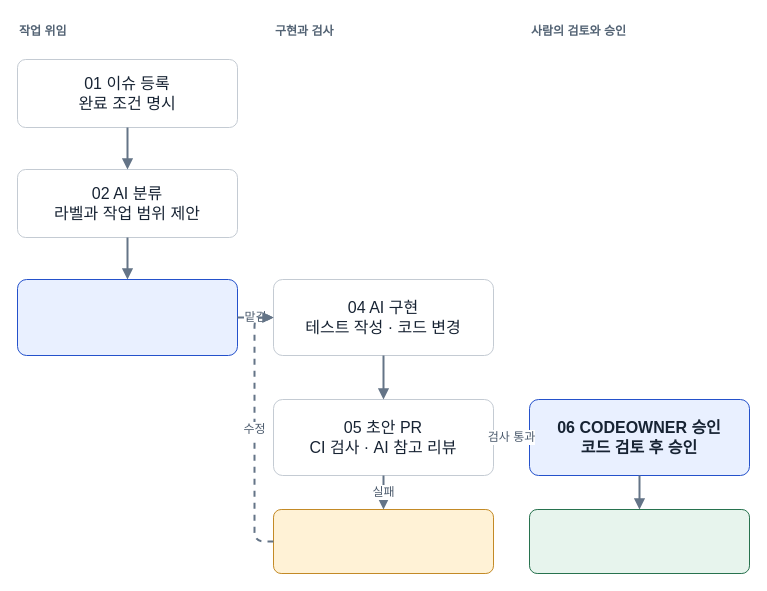
This 767x591 diagram has some shape labels left out. The shapes that lost their labels are listed below. From the top down, each one's centre as x and y in pixels, then its label:
At point 127,317: "03 작업 위임 ai:ready 지정".
At point 383,541: "CI 실패 원인을 고쳐 다시 검사".
At point 639,541: "07 squash 머지 ai:done · 릴리스 절차".
